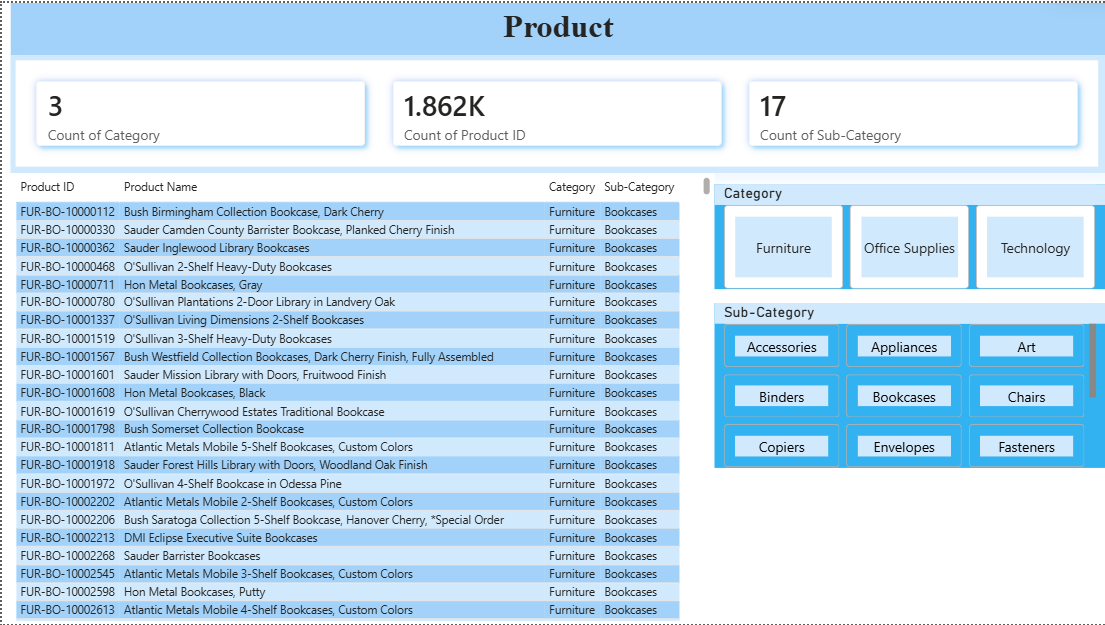

This screenshot's page, from the dashboard's own definition file:
{"tool":"powerbi","page":{"name":"PRODUCT","canvas":[1280,720],"ordinal":2},"visuals":[{"type":"textbox","box":[10.1,0,1269.9,60.8],"z":0},{"type":"cardVisual","fields":{"Data":["Count(product.Category)","Count(product.Product ID)","Count(product.Sub-Category)"]},"box":[10.1,60.8,1269.9,135.7],"z":1000},{"type":"tableEx","fields":{"Values":["product.Product ID","product.Product Name","product.Category","product.Sub-Category"]},"box":[10.1,196.5,816.2,524.6],"z":2000},{"type":"advancedSlicerVisual","fields":{"Values":["product.Category"]},"box":[826.8,210.7,453.6,121.4],"z":3000},{"type":"advancedSlicerVisual","fields":{"Values":["product.Sub-Category"]},"box":[826.8,348.2,453.6,191.1],"z":4000}]}

Visuals, with their boxes in screenshot pixels (x1, y1, x2, y2), scaled from the page's 1280x720 canvas onto the 1105x625 screenshot:
textbox: {"left": 9, "top": 0, "right": 1104, "bottom": 53}
cardVisual - Count(product.Category) x Count(product.Product ID): {"left": 9, "top": 53, "right": 1104, "bottom": 171}
tableEx - product.Product ID x product.Product Name: {"left": 9, "top": 171, "right": 713, "bottom": 624}
advancedSlicerVisual - product.Category: {"left": 714, "top": 183, "right": 1104, "bottom": 288}
advancedSlicerVisual - product.Sub-Category: {"left": 714, "top": 302, "right": 1104, "bottom": 468}
